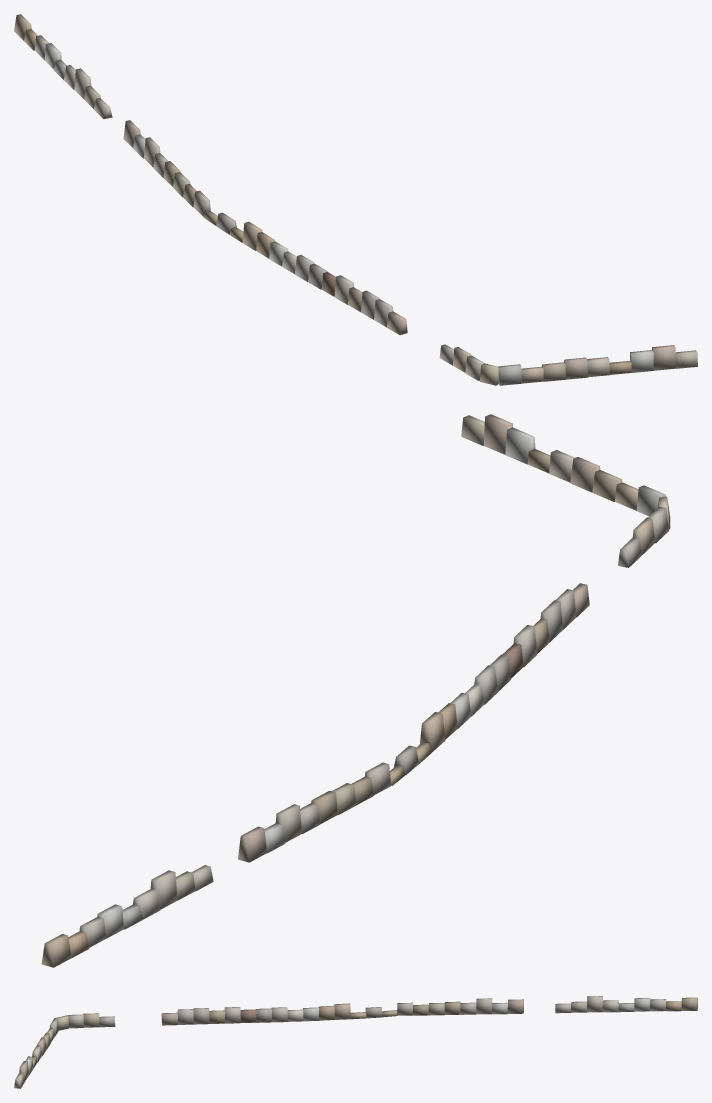
The model's file is farm_6_26_collision.glb.
The picture shows the model from 3 angles, top to bottom: view 1: azimuth 30°, elevation 25°; view 2: azimuth 150°, elevation 25°; view 3: azimuth 270°, elevation 25°; orthographic projection. The views are drawn at different scales.
Visible parts, largest first — view 1: geometry_0; view 2: geometry_0; view 3: geometry_0.
Boxes of the visible parts, x1,y1,x2,y2 form: geometry_0: (14, 14, 697, 385); geometry_0: (41, 414, 670, 967); geometry_0: (14, 996, 697, 1088).
Bounding box in the file's own units: 17.5 × 2.98 × 67.37.
